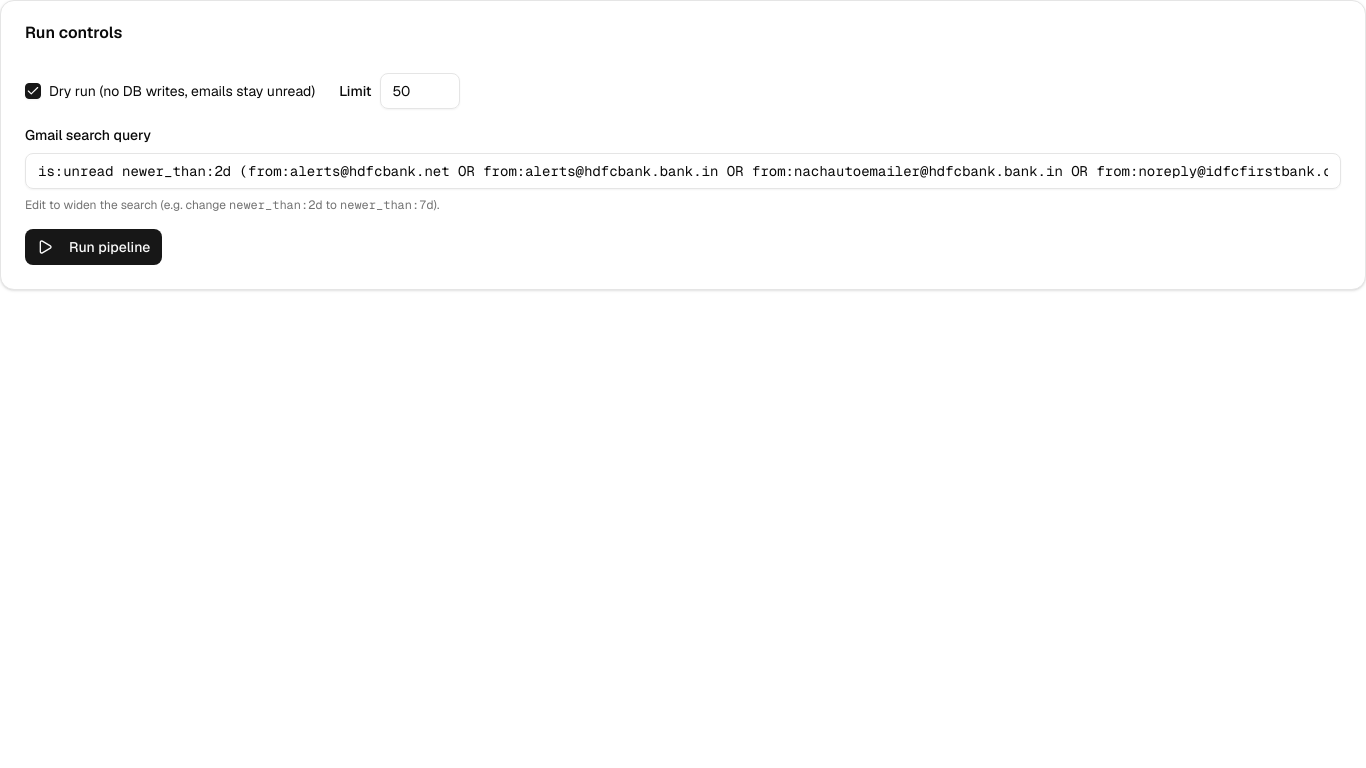
it: DebugRunner › shows a prominent warning when Gmail returns 0 emails
Click the button "Run pipeline". click: (94, 247)
box: x1=25 y1=229 x2=162 y2=265
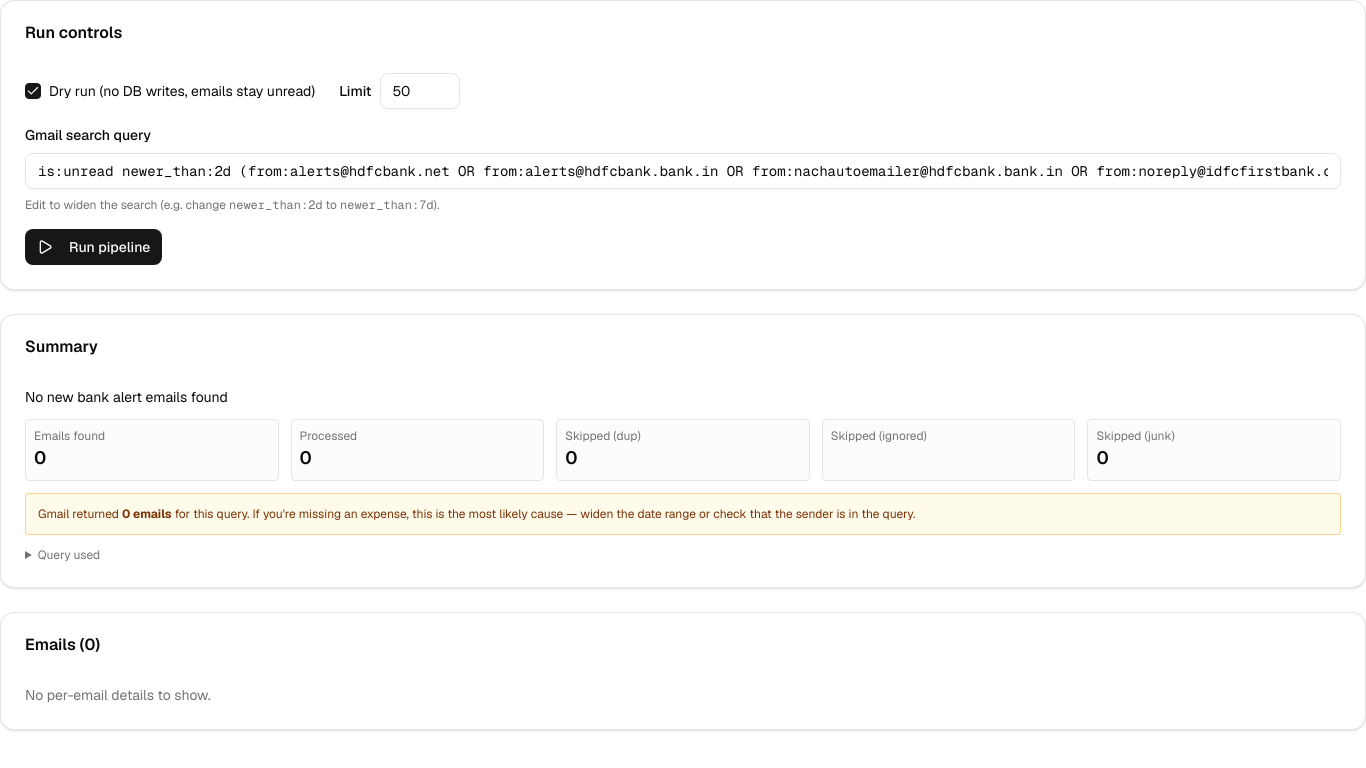
Now the text "Gmail returned" is shown, box x1=38 y1=506 x2=122 y2=522
